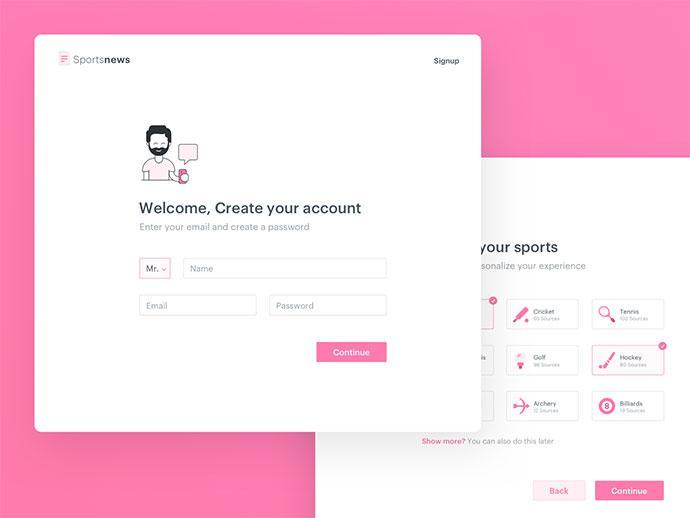button: (318, 342, 389, 363), (595, 481, 665, 502), (532, 480, 588, 501)
dropdown: (140, 258, 172, 281)
input: (184, 258, 388, 280), (139, 295, 258, 318), (270, 295, 388, 318)
